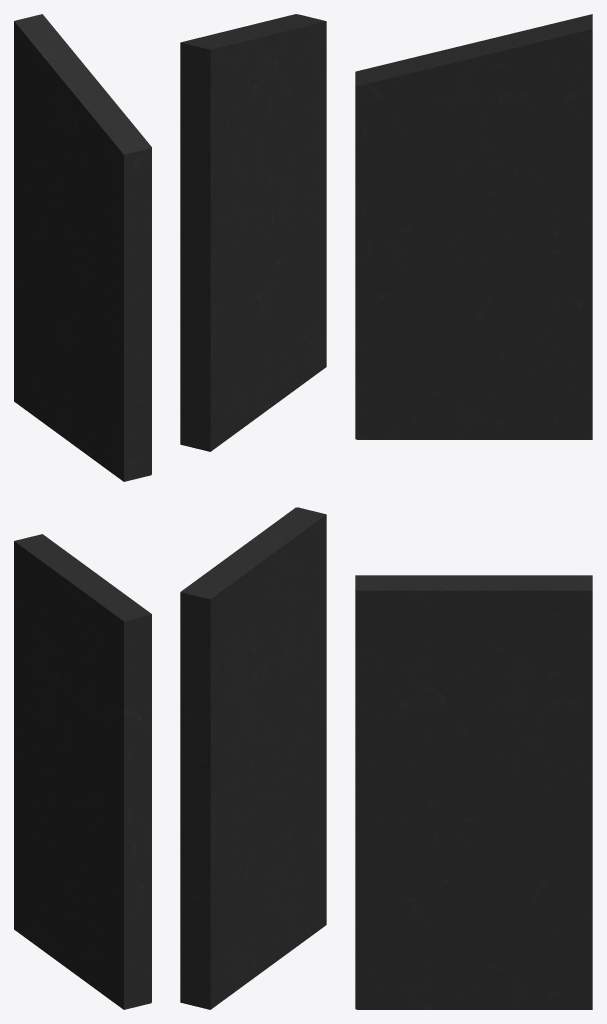
The model's file is A13.1.1 H.WALL. PNL 1910 UP + 1950 DWN E3.fbx.
3 renders of one model, left to right at view 1: azimuth 30°, elevation 25°; view 2: azimuth 150°, elevation 25°; view 3: azimuth 270°, elevation 25°, orthographic. The views are drawn at different scales.
Parts seen in each view (by area): view 1: Group1, Model; view 2: Group1, Model; view 3: Group1, Model.
Part boxes in pixels (bbox=[...]): Group1: bbox=[14, 534, 151, 1009]; Model: bbox=[14, 14, 151, 481]; Group1: bbox=[180, 507, 326, 1009]; Model: bbox=[180, 14, 326, 451]; Group1: bbox=[355, 575, 592, 1009]; Model: bbox=[355, 14, 592, 439].
Bounding box in the file's own units: 150 × 4560 × 1000.
